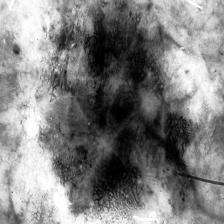Benign Marking or Mole: (49, 13, 194, 214)
